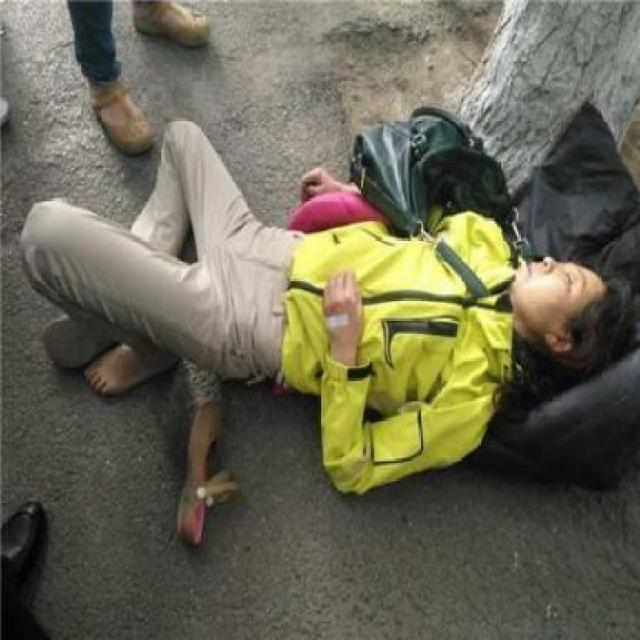fall: (10, 56, 636, 575)
